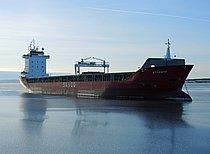Ship: (18, 33, 197, 109)
